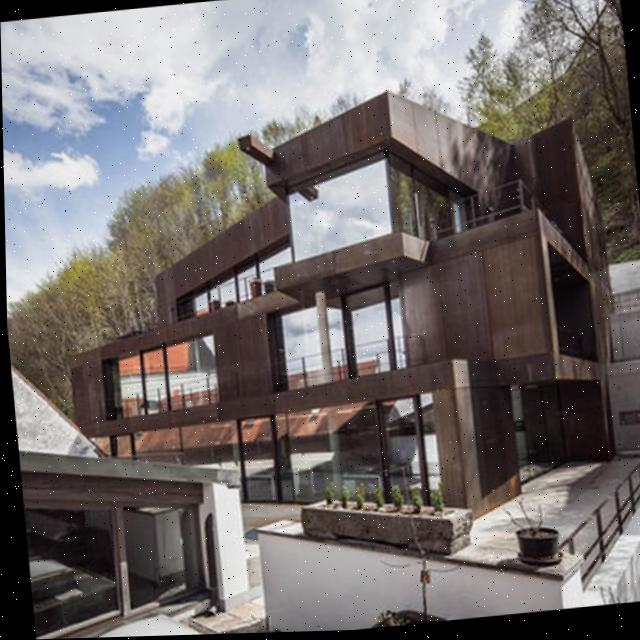building: (51, 60, 629, 557)
